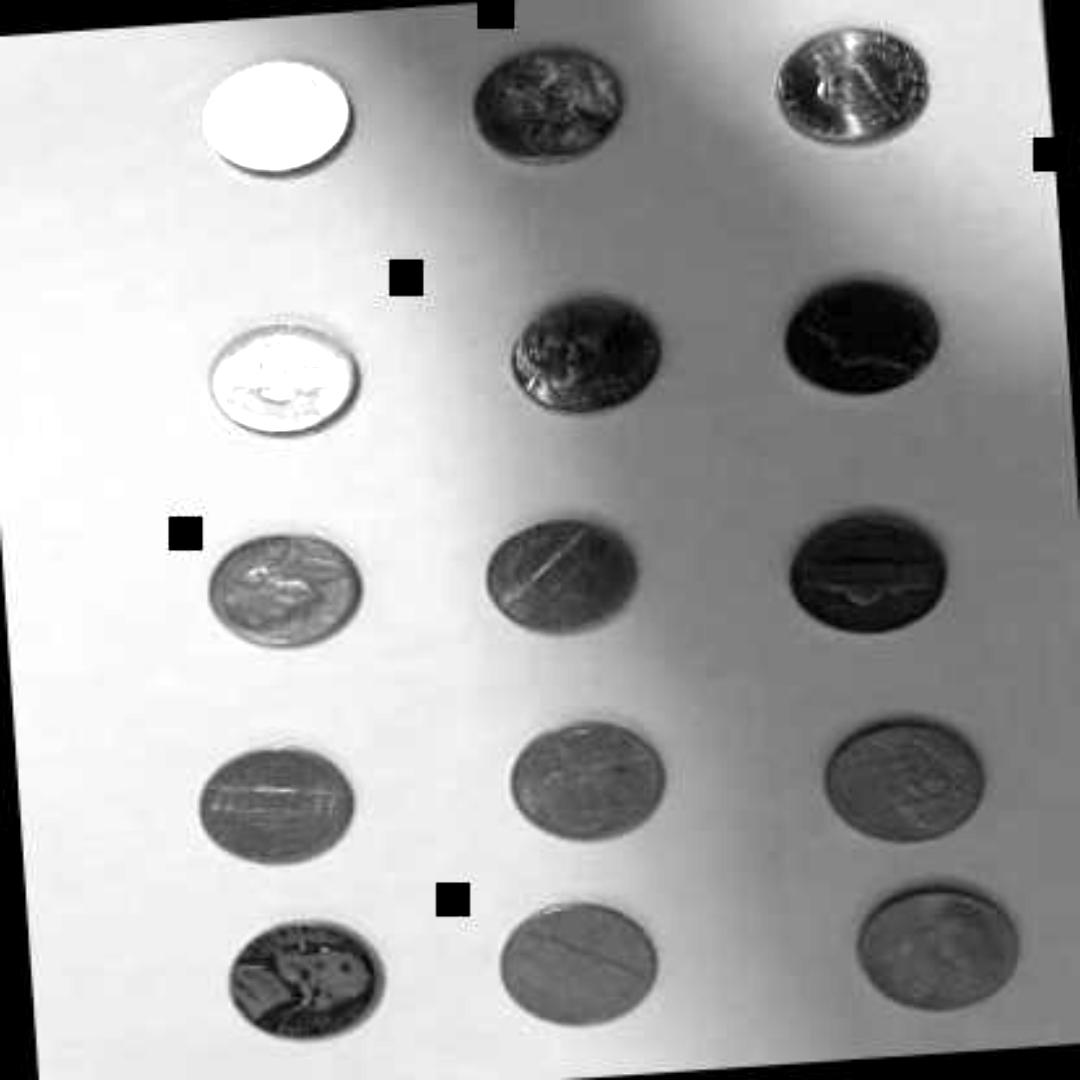Nickel: (840, 878, 1038, 1028), (487, 895, 673, 1045), (221, 906, 397, 1054), (772, 265, 951, 405), (456, 34, 636, 172), (812, 714, 992, 851), (198, 513, 366, 655), (505, 279, 671, 421), (206, 310, 372, 448), (770, 22, 934, 160), (197, 744, 363, 876), (502, 715, 668, 847), (480, 513, 646, 645), (790, 517, 958, 644), (194, 52, 357, 180)
